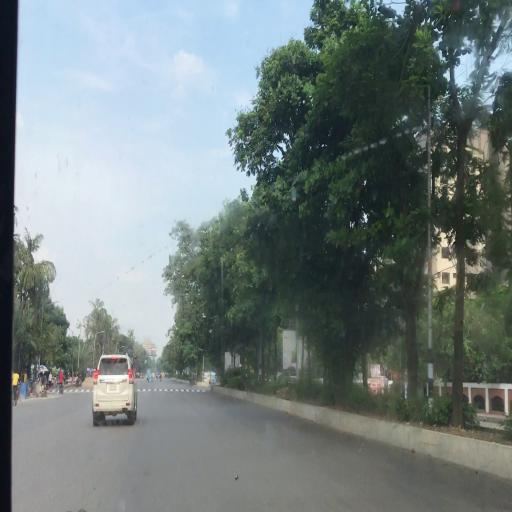bicycle: (13, 371, 22, 408)
rickshaw: (188, 370, 199, 389)
suv: (91, 353, 139, 432)
